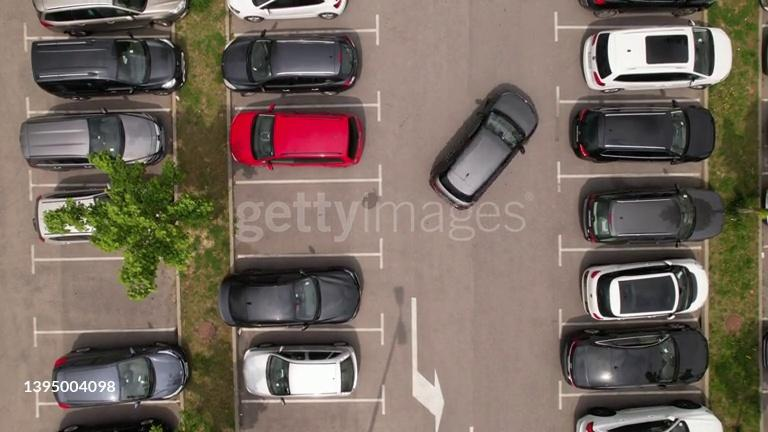car: (22, 39, 182, 102), (436, 99, 529, 204), (584, 24, 728, 91), (566, 327, 707, 388), (218, 266, 361, 326), (51, 345, 185, 406), (19, 112, 161, 168), (582, 185, 720, 242), (224, 35, 356, 93), (582, 258, 708, 317), (577, 107, 706, 160), (232, 118, 362, 170), (35, 0, 188, 30), (579, 401, 723, 431), (34, 188, 109, 240), (267, 354, 347, 394), (229, 0, 345, 21), (582, 0, 714, 15), (58, 416, 169, 431), (756, 7, 767, 71)
